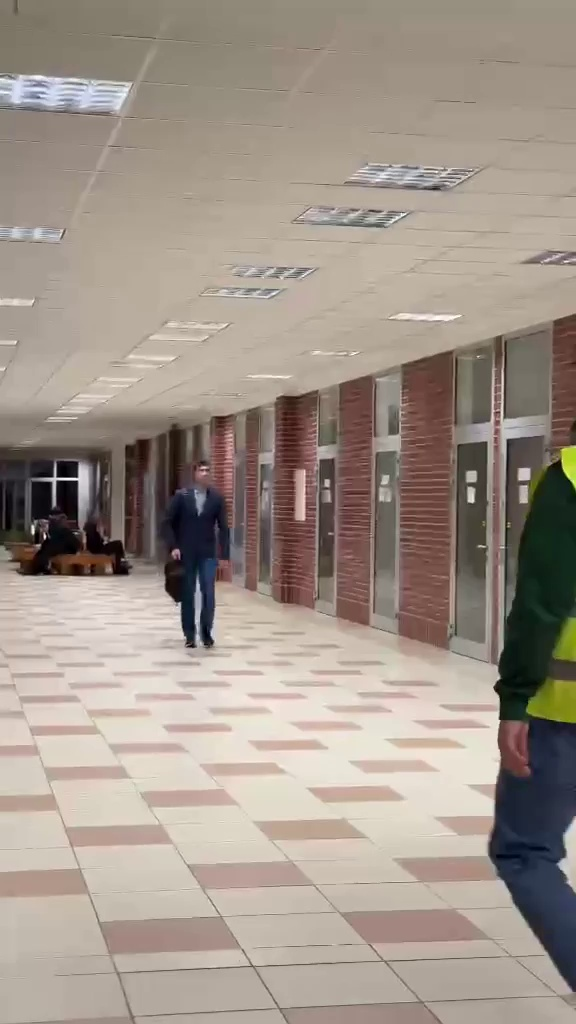no vest: (157, 453, 236, 649)
vest: (480, 416, 576, 998)
